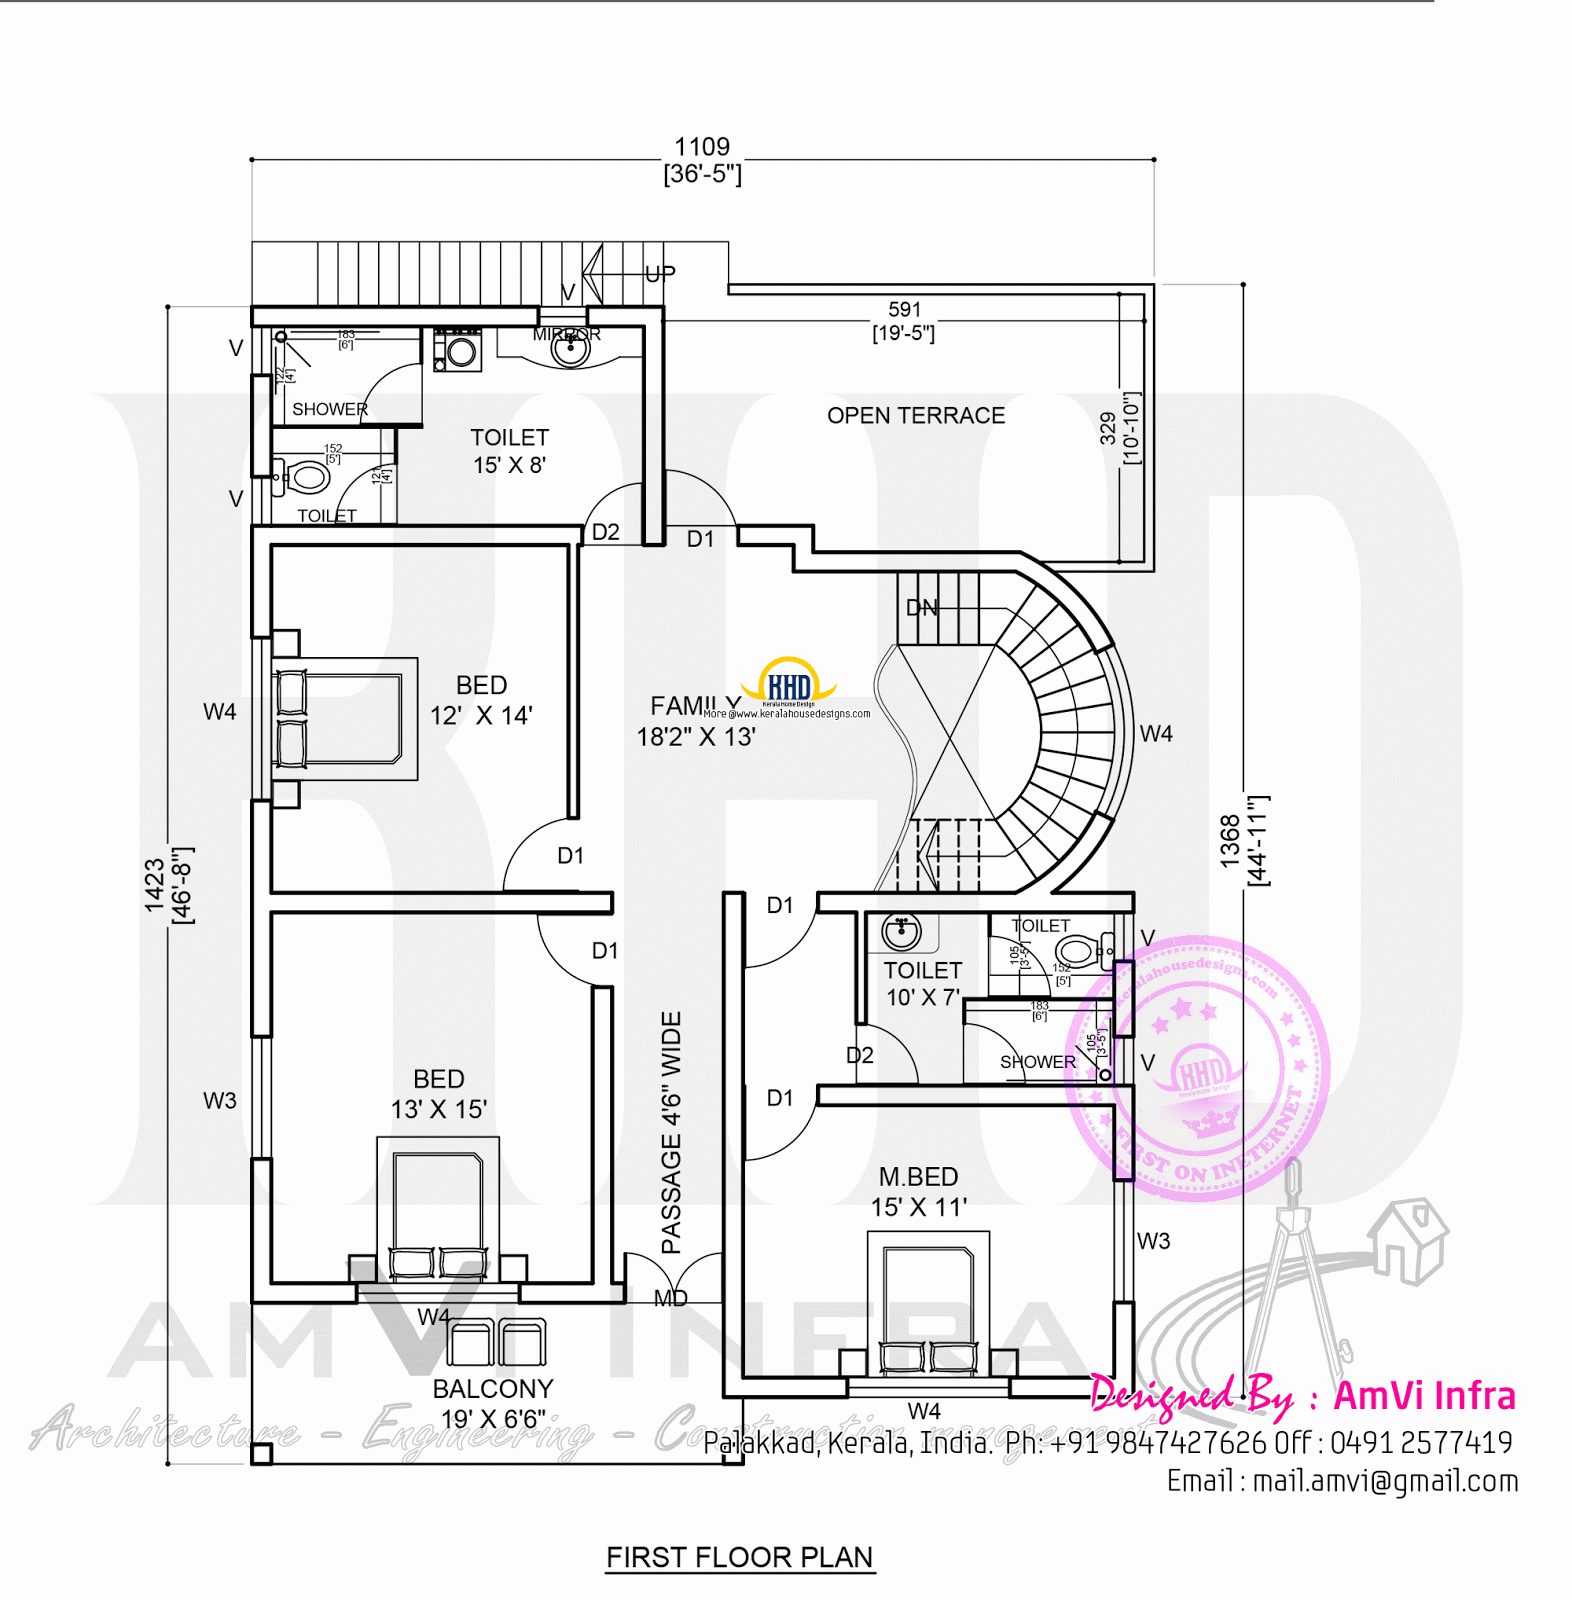room: (580, 552, 1133, 893), (261, 902, 599, 1287), (261, 539, 584, 899), (731, 1103, 1127, 1388), (258, 311, 659, 530), (852, 903, 1127, 1095)
